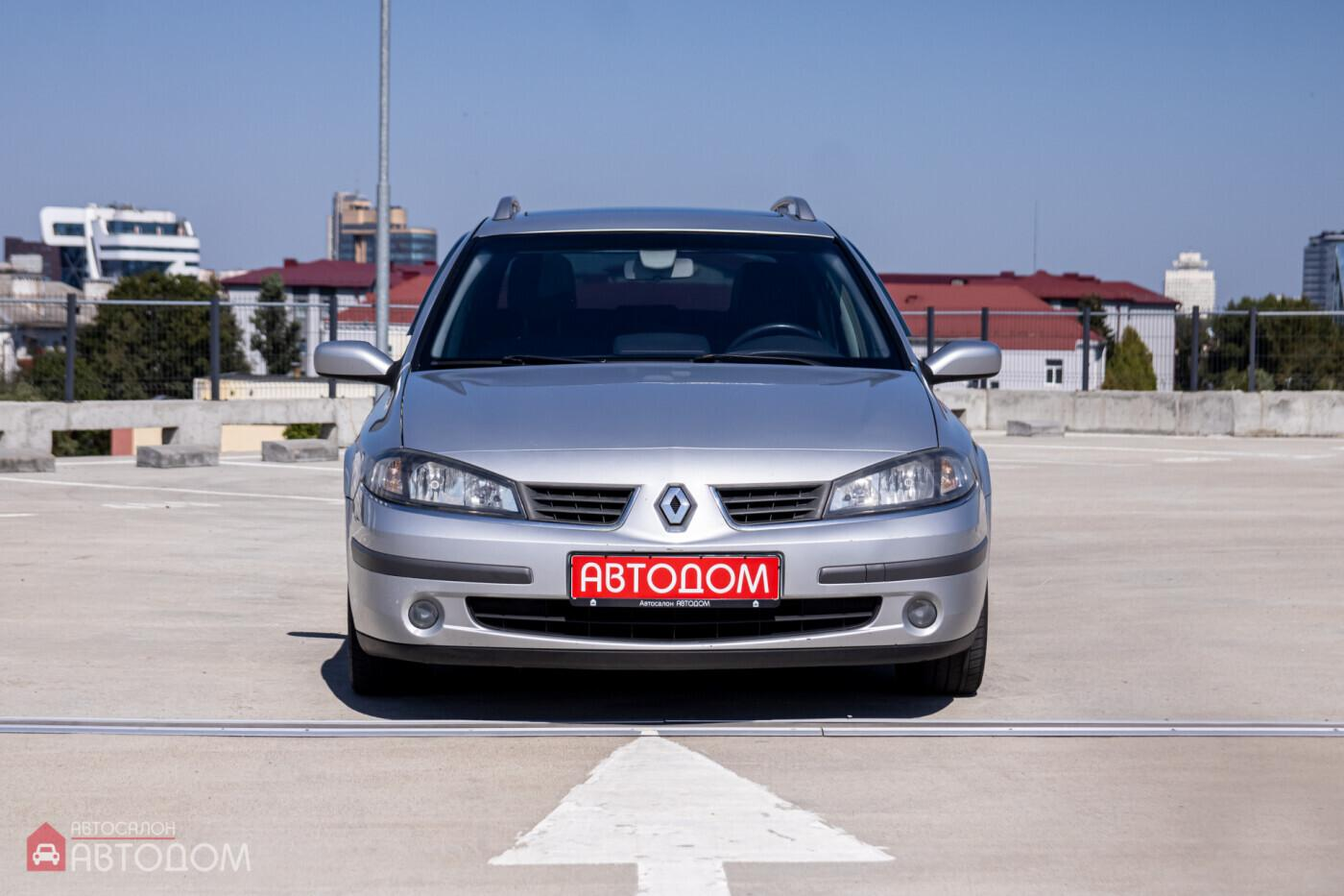Laguna_2005-2007: (324, 197, 1001, 711)
